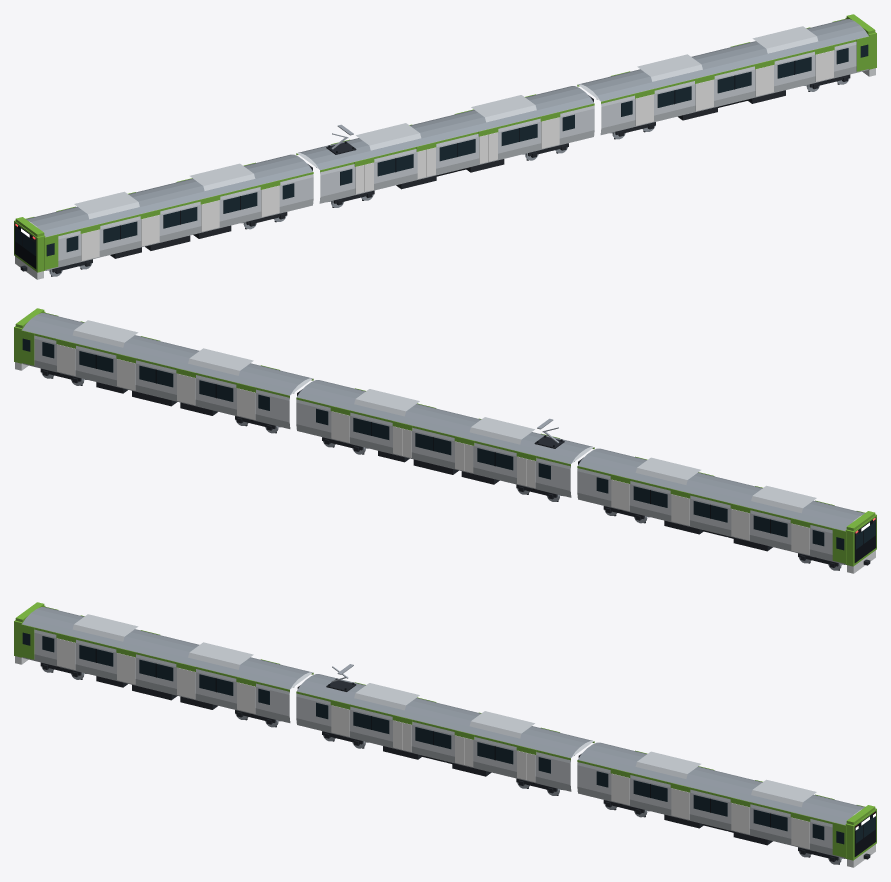
The model's file is jr-east-e235-0-consist.glb.
3 views of the same model, one above another, from view 1: azimuth 30°, elevation 25°; view 2: azimuth 150°, elevation 25°; view 3: azimuth 330°, elevation 25° (orthographic).
Visible parts, largest first — view 1: Body_Shell (×3), Roof_Crown (×3), Doors_And_Windows (×3), Roof_HVAC (×6), Lead_Cab_Front (×2), Underfloor_Equipment (×2), Car_Canonical; view 2: Body_Shell (×3), Roof_Crown (×3), Doors_And_Windows (×3), Roof_HVAC (×6), Lead_Cab_Front (×2), Underfloor_Equipment (×3), Car_Canonical; view 3: Body_Shell (×3), Roof_Crown (×3), Doors_And_Windows (×3), Roof_HVAC (×6), Lead_Cab_Front (×2), Underfloor_Equipment (×2), Car_Canonical.
Part boxes in pixels (left/top/right/bottom): Body_Shell (×3): left=29, top=36, right=868, bottom=270; Roof_Crown (×3): left=26, top=19, right=868, bottom=236; Doors_And_Windows (×3): left=56, top=27, right=848, bottom=252; Roof_HVAC (×6): left=74, top=26, right=818, bottom=219; Lead_Cab_Front (×2): left=14, top=14, right=876, bottom=279; Underfloor_Equipment (×2): left=110, top=159, right=504, bottom=258; Car_Canonical: left=296, top=103, right=594, bottom=172; Body_Shell (×3): left=22, top=330, right=861, bottom=564; Roof_Crown (×3): left=22, top=313, right=864, bottom=530; Doors_And_Windows (×3): left=42, top=321, right=834, bottom=546; Roof_HVAC (×6): left=72, top=320, right=816, bottom=513; Lead_Cab_Front (×2): left=14, top=308, right=876, bottom=573; Underfloor_Equipment (×3): left=96, top=382, right=772, bottom=551; Car_Canonical: left=296, top=397, right=594, bottom=466; Body_Shell (×3): left=22, top=624, right=861, bottom=858; Roof_Crown (×3): left=22, top=607, right=864, bottom=824; Doors_And_Windows (×3): left=42, top=615, right=834, bottom=840; Roof_HVAC (×6): left=72, top=614, right=816, bottom=807; Lead_Cab_Front (×2): left=14, top=602, right=876, bottom=867; Underfloor_Equipment (×2): left=96, top=676, right=772, bottom=845; Car_Canonical: left=296, top=691, right=594, bottom=760.
Bounding box in the file's own units: 60.16 × 5.09 × 3.03.
